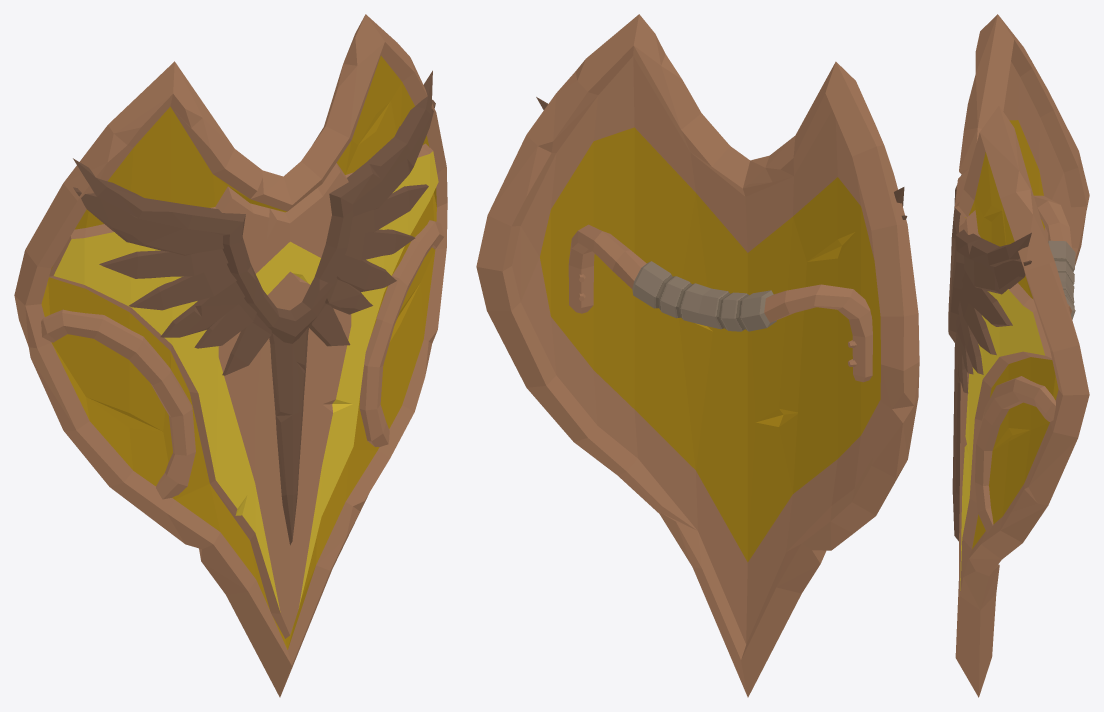
The model's file is elven_SM_Wep_Shield_02.gltf.
3 views of the same model, side by side, from view 1: azimuth 30°, elevation 25°; view 2: azimuth 150°, elevation 25°; view 3: azimuth 270°, elevation 25° (orthographic). The views are drawn at different scales.
Visible parts, largest first — view 1: SM_Wep_Shield_02; view 2: SM_Wep_Shield_02; view 3: SM_Wep_Shield_02.
Boxes of the visible parts, x1,y1,x2,y2 form: SM_Wep_Shield_02: (14,14,447,697); SM_Wep_Shield_02: (476,14,919,697); SM_Wep_Shield_02: (948,14,1089,697).
Size of the model in its own units: 0.6497 by 0.9608 by 0.1931.
1 material, 1 textured.
